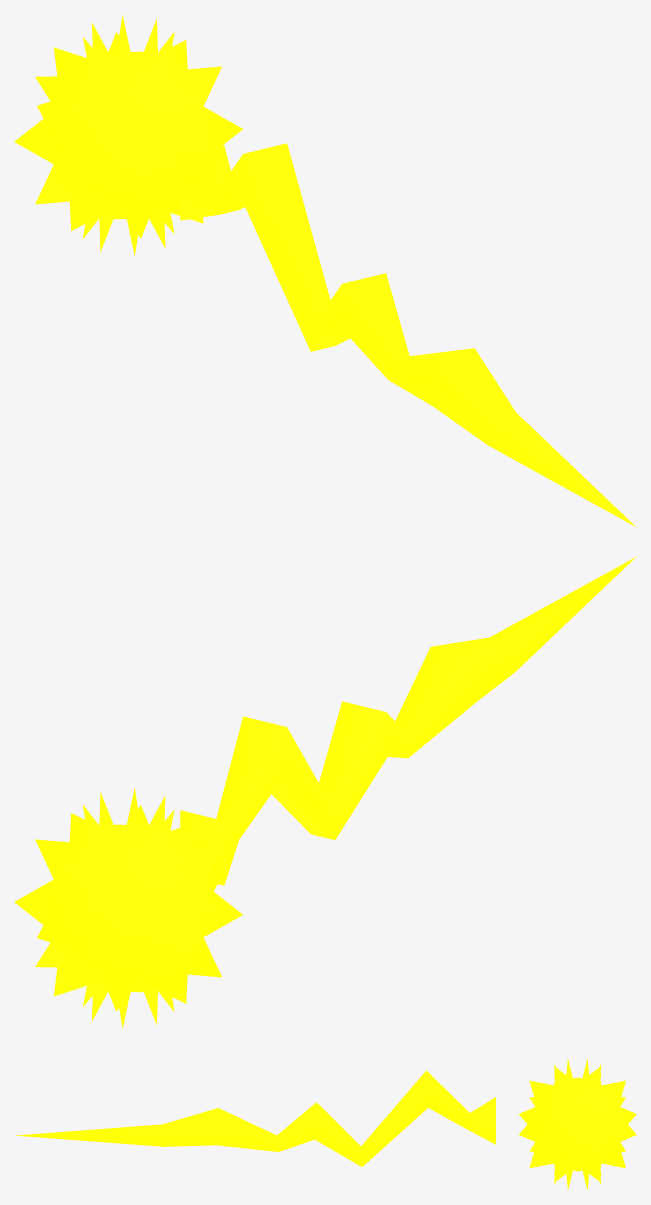
Rendered from skill1.glb.
3 renders of one model, top to bottom at view 1: azimuth 30°, elevation 25°; view 2: azimuth 150°, elevation 25°; view 3: azimuth 270°, elevation 25°, orthographic. The views are drawn at different scales.
Visible parts, largest first — view 1: Sphere; view 2: Sphere; view 3: Sphere.
Part boxes in pixels (x1,y1,x2,y2): Sphere: [14, 15, 636, 527]; Sphere: [14, 557, 635, 1028]; Sphere: [16, 1058, 636, 1190].
Size of the model in its own units: 2.48 by 2.6 by 13.03.
